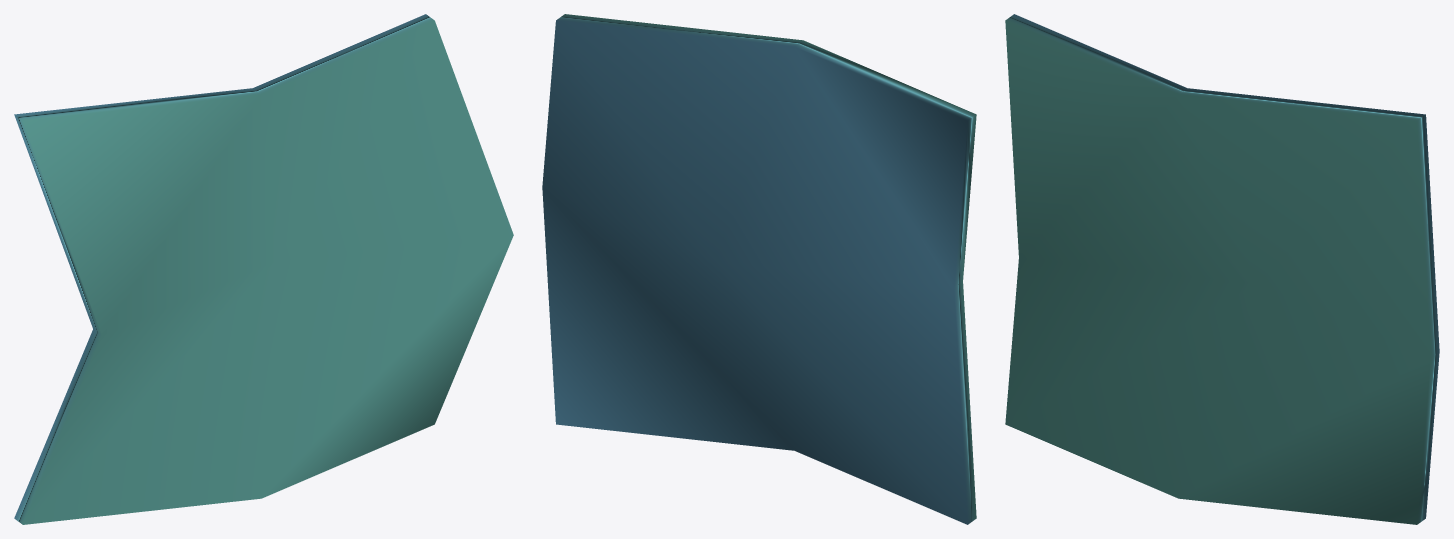
File: x04_artifact.glb
3 renders of one model, left to right at view 1: azimuth 30°, elevation 25°; view 2: azimuth 150°, elevation 25°; view 3: azimuth 330°, elevation 25°, orthographic.
Parts seen in each view (by area): view 1: ToolboxSolid; view 2: ToolboxSolid; view 3: ToolboxSolid.
Part boxes in pixels (x1,y1,x2,y2): ToolboxSolid: [14, 14, 513, 524]; ToolboxSolid: [542, 14, 976, 524]; ToolboxSolid: [1005, 14, 1439, 524].
Size of the model in its own units: 178 by 150 by 28.
